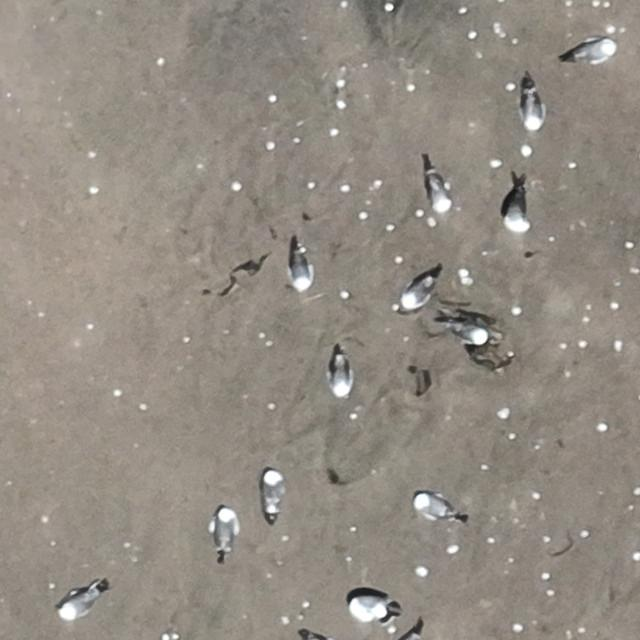umineko: (402, 278, 432, 308), (574, 40, 614, 61), (350, 595, 388, 617), (60, 592, 93, 617), (263, 470, 283, 511), (416, 497, 452, 519), (216, 508, 236, 547), (454, 324, 489, 344), (507, 194, 527, 228), (430, 180, 449, 212), (292, 255, 310, 288), (524, 98, 542, 130), (332, 361, 348, 395)
